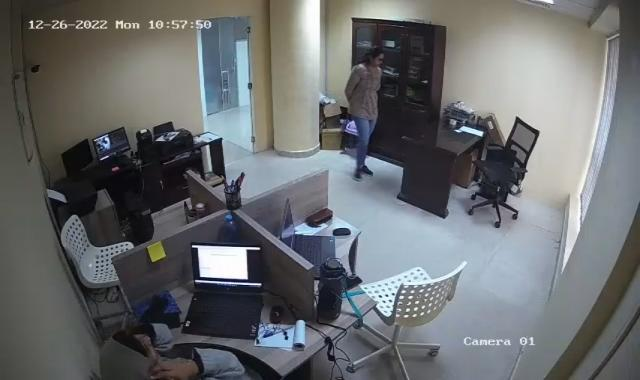no_hairnet: (99, 331, 156, 379), (367, 43, 386, 69)
